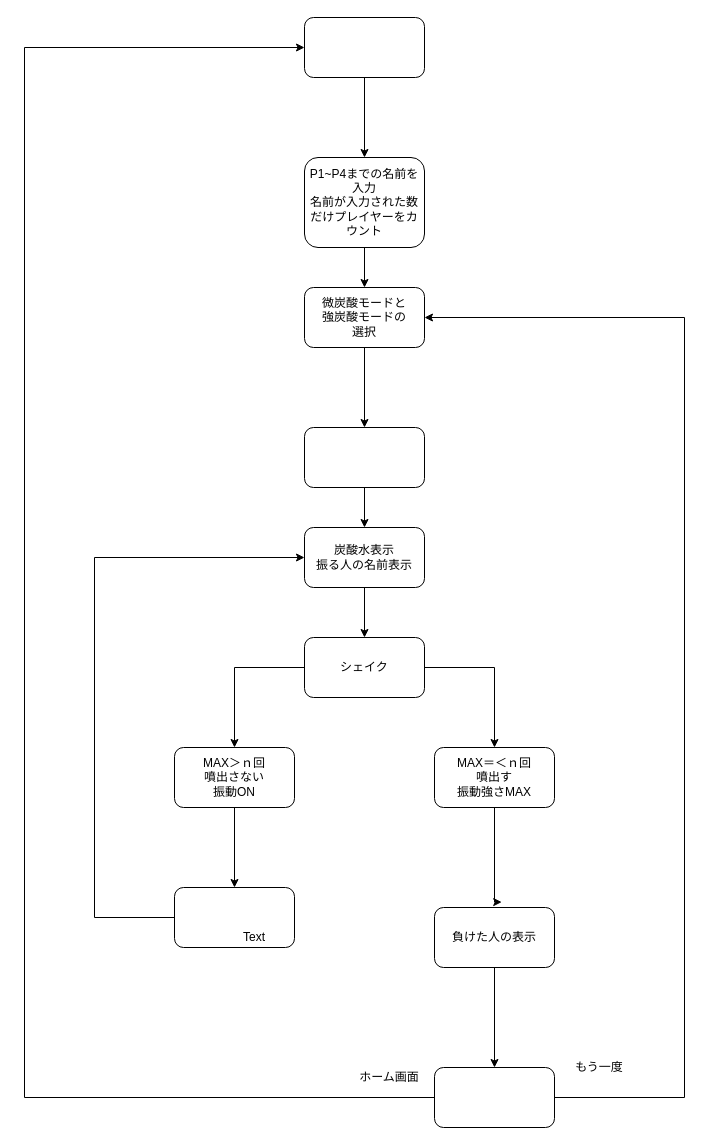
This 710x1145 diagram has some shape labels left out. The shapes that lost their labels are listed below. From the top down, each one's box as (x1, y1, x2, y2) in pixels, then its label:
(304, 16, 424, 78): スタート
(304, 426, 424, 488): ゲームスタート
(174, 886, 294, 948): 次のプレイヤーに 5秒後バトンタッチ
(434, 1066, 554, 1128): もう一度か ホーム画面に戻るを表示
